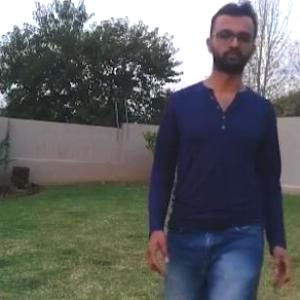follow: (155, 19, 266, 299)
